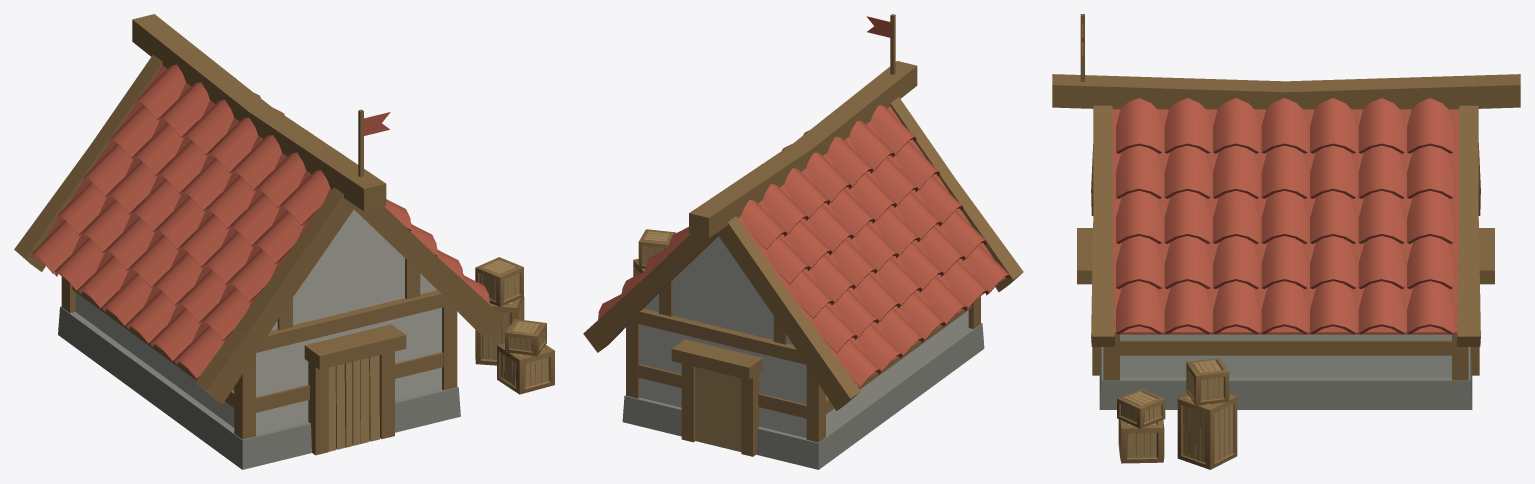
The model's file is House-RSwoYSLblu.glb.
3 renders of one model, left to right at view 1: azimuth 30°, elevation 25°; view 2: azimuth 150°, elevation 25°; view 3: azimuth 270°, elevation 25°, orthographic. The views are drawn at different scales.
Parts seen in each view (by area): view 1: Houses_SecondAge_1_Level2; view 2: Houses_SecondAge_1_Level2; view 3: Houses_SecondAge_1_Level2.
Part boxes in pixels (x1,y1,x2,y2): Houses_SecondAge_1_Level2: (14, 14, 554, 469); Houses_SecondAge_1_Level2: (583, 14, 1023, 469); Houses_SecondAge_1_Level2: (1052, 14, 1520, 469).
Bounding box in the file's own units: 1.11 × 0.9521 × 1.17.
